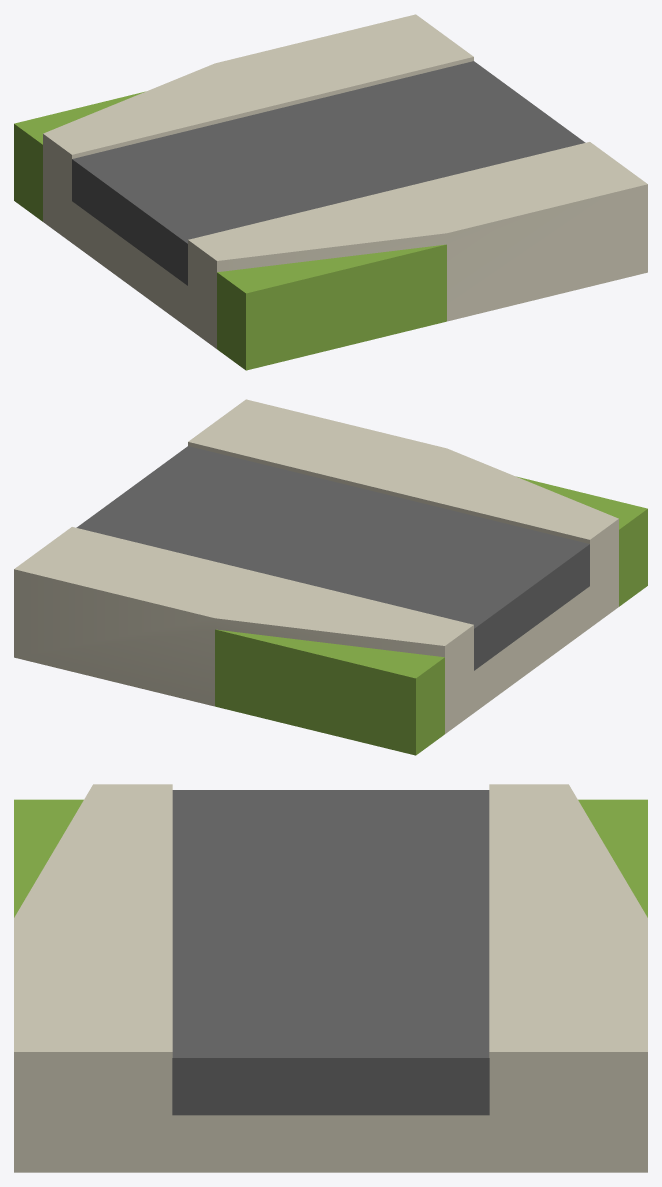
Rendered from tile140.dae.
3 views of the same model, one above another, from view 1: azimuth 30°, elevation 25°; view 2: azimuth 150°, elevation 25°; view 3: azimuth 270°, elevation 25° (orthographic). The views are drawn at different scales.
Visible parts, largest first — view 1: tile140; view 2: tile140; view 3: tile140.
Boxes of the visible parts, box(x1,y1,x2,y2) form: tile140: box(14, 14, 647, 370); tile140: box(14, 399, 647, 755); tile140: box(14, 784, 647, 1172).
Bounding box in the file's own units: 1 × 0.21 × 1.
